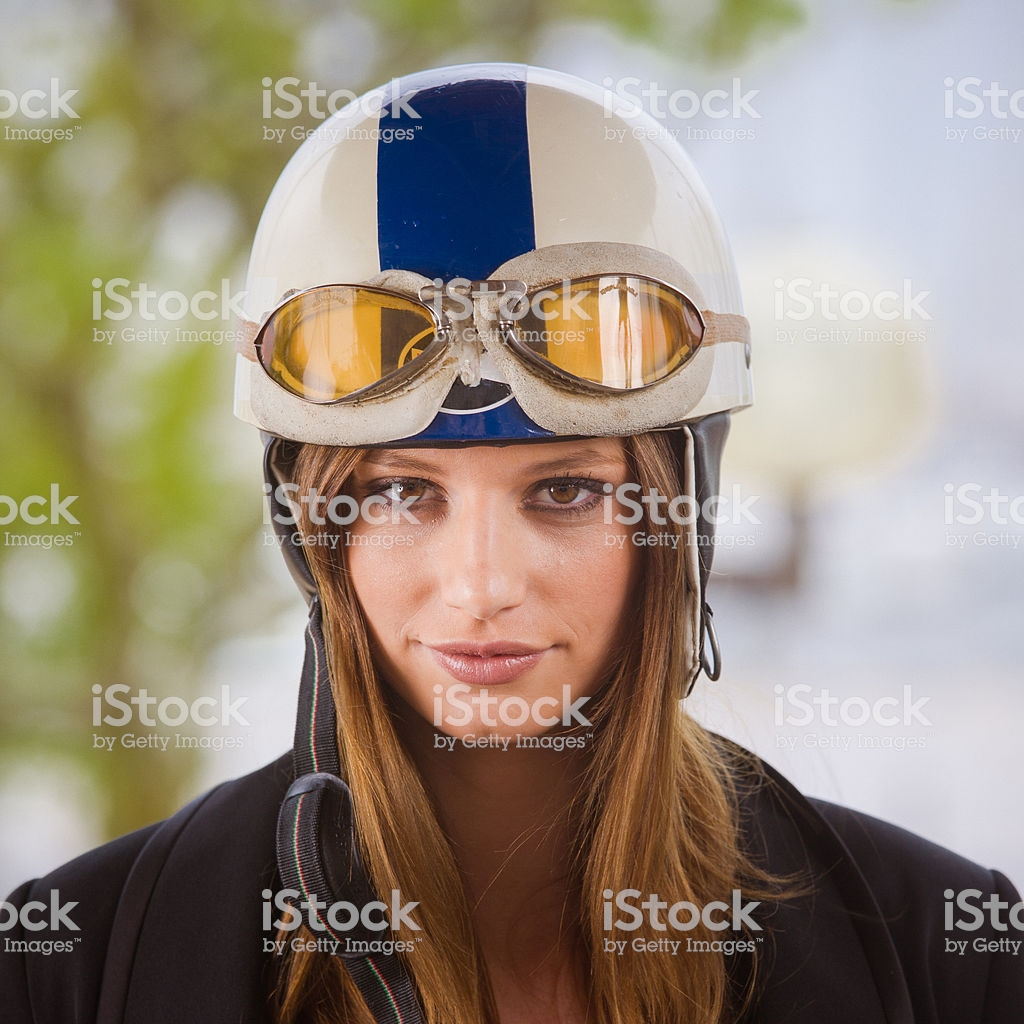helmet: (203, 75, 764, 465)
